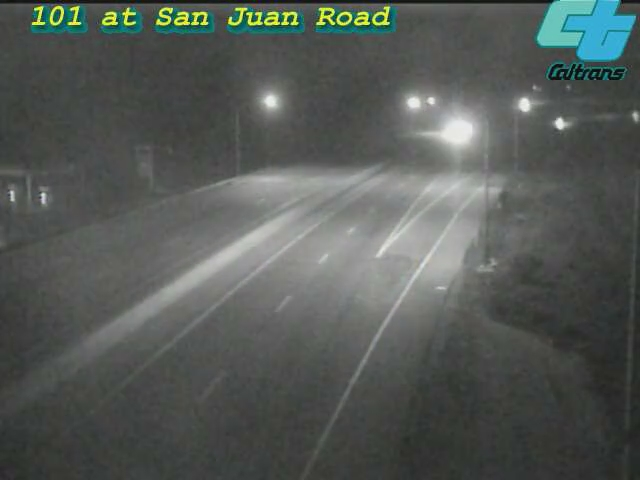vehicle: (434, 107, 484, 157), (532, 100, 582, 150), (498, 81, 548, 131)
